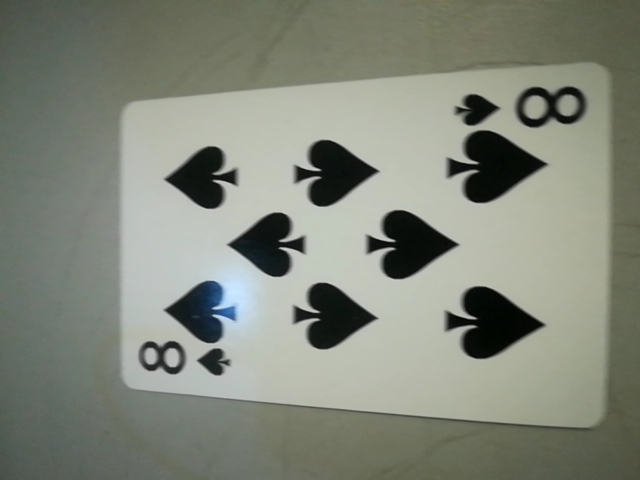ht 8: (461, 77, 600, 138)
